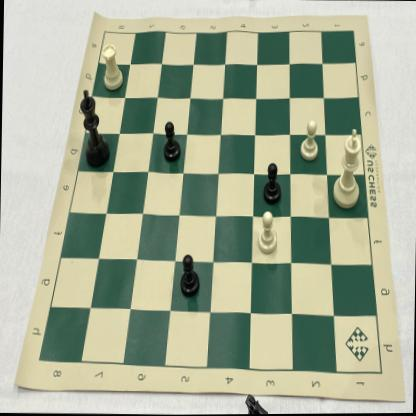black-king: (76, 86, 113, 169)
black-pawn: (160, 114, 186, 167), (260, 155, 284, 207), (177, 251, 201, 299)
white-king: (326, 124, 369, 214)
white-pawn: (255, 206, 281, 259), (296, 117, 322, 168)
white-rook: (100, 36, 127, 94)
